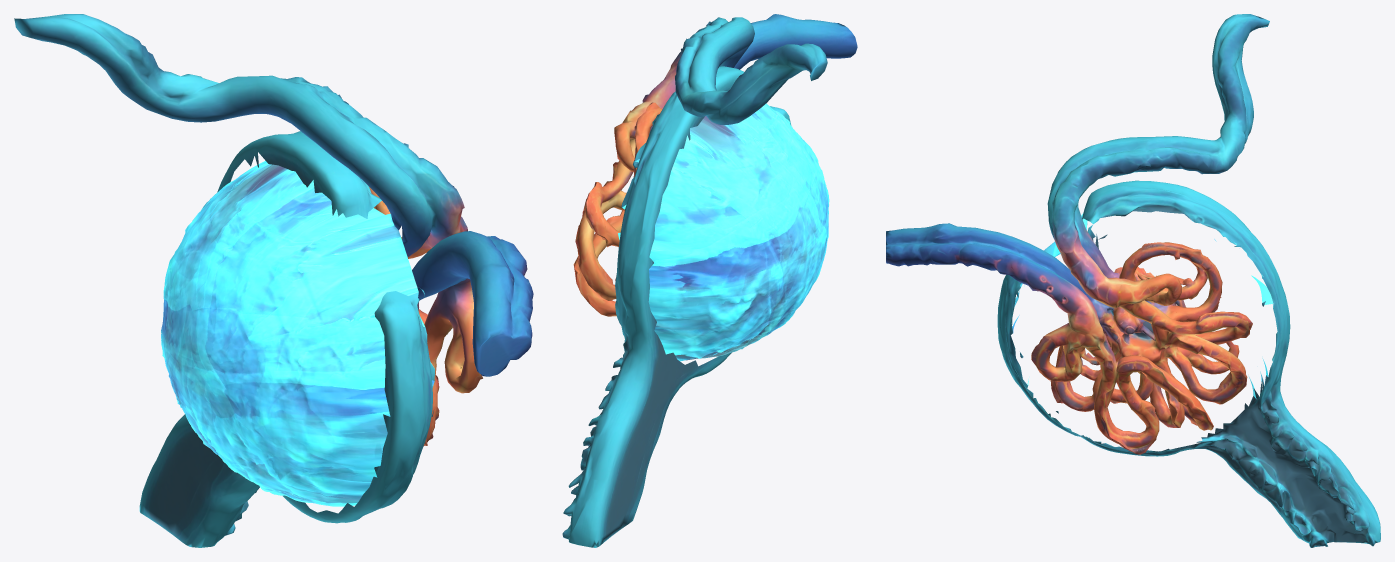
File: glom.opt.glb
3 renders of one model, left to right at view 1: azimuth 30°, elevation 25°; view 2: azimuth 150°, elevation 25°; view 3: azimuth 270°, elevation 25°, orthographic. The views are drawn at different scales.
Parts seen in each view (by area): view 1: tripo_node_62722417-5978-4fbb-8ee7-ef972e4bed10; view 2: tripo_node_62722417-5978-4fbb-8ee7-ef972e4bed10; view 3: tripo_node_62722417-5978-4fbb-8ee7-ef972e4bed10.
Boxes of the visible parts, bbox=[...] form: tripo_node_62722417-5978-4fbb-8ee7-ef972e4bed10: bbox=[14, 14, 533, 547]; tripo_node_62722417-5978-4fbb-8ee7-ef972e4bed10: bbox=[562, 14, 857, 547]; tripo_node_62722417-5978-4fbb-8ee7-ef972e4bed10: bbox=[886, 14, 1380, 547].
Bounding box in the file's own units: 0.6006 × 1 × 0.9999.
Materials: 2 (2 with a texture image).
